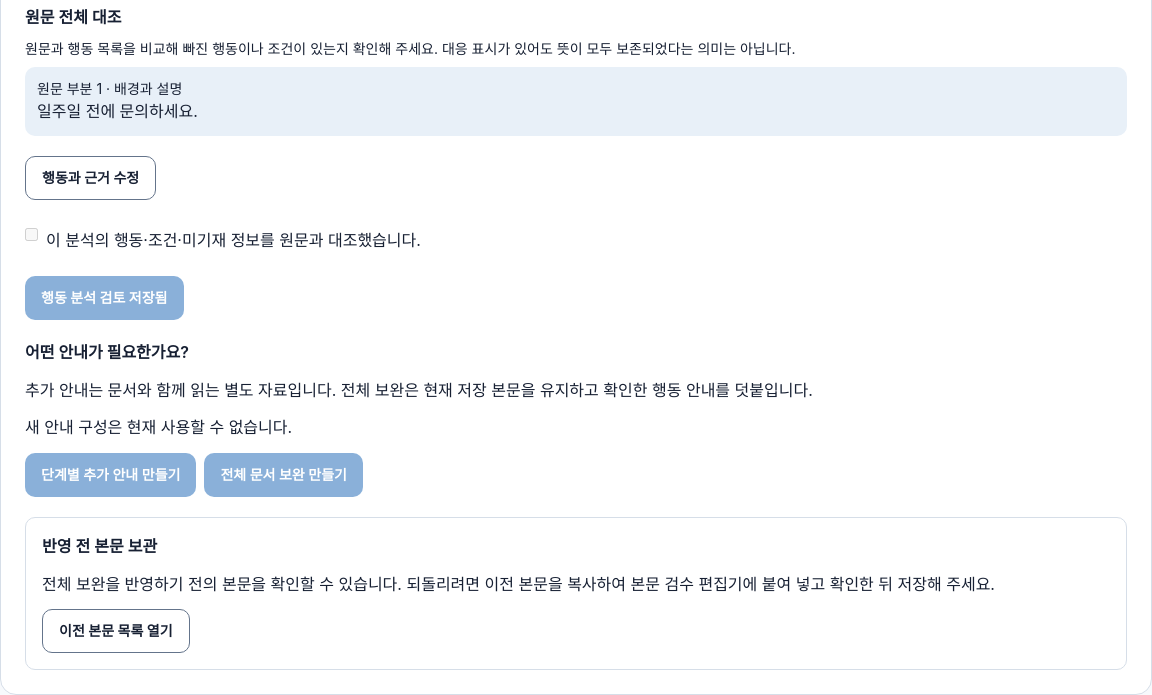
Test: 행동 분석과 보완 흐름 › 새 요청이 꺼져도 이전 본문을 열어 복사할 수 있고 자동 복구하지 않는다
(page scrolled)
Click the button "이전 본문 목록 열기" at [116, 631], box [42,609,190,653]
(page scrolled)
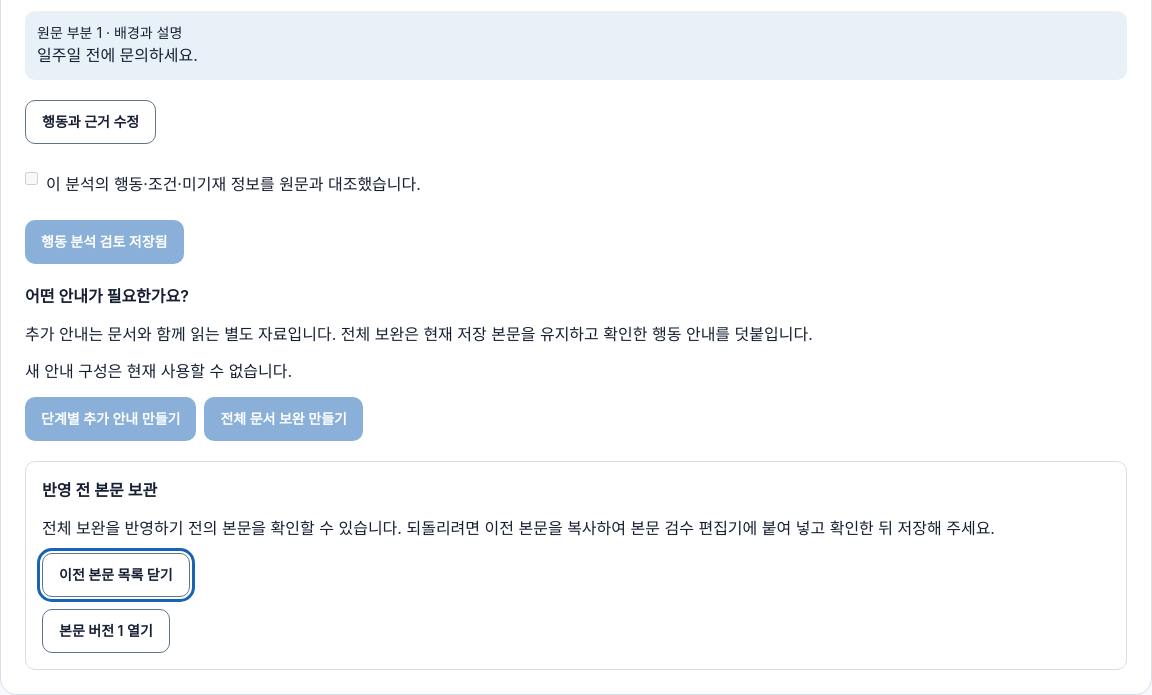
Click the button "본문 버전 1 열기" at [106, 631], box [42,609,170,653]
(page scrolled)
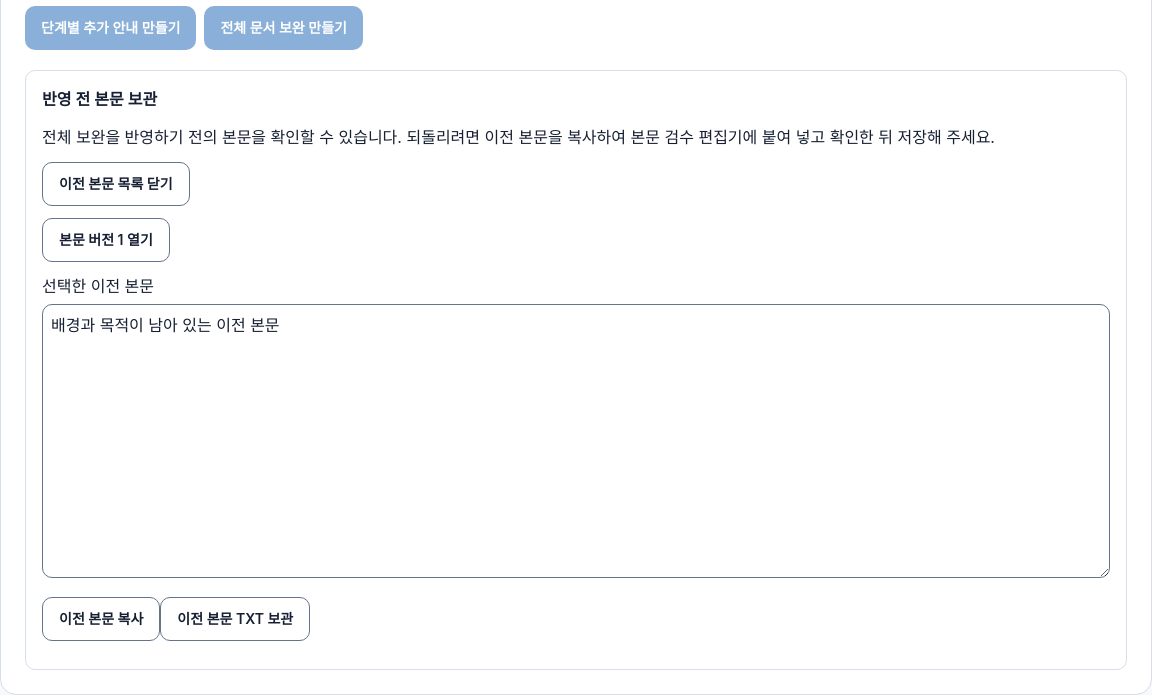
Result: the text box labelled "선택한 이전 본문" holds "배경과 목적이 남아 있는 이전 본문" at [42,304,1110,578]
Click the button "이전 본문 복사" at [101, 619], box [42,597,160,641]
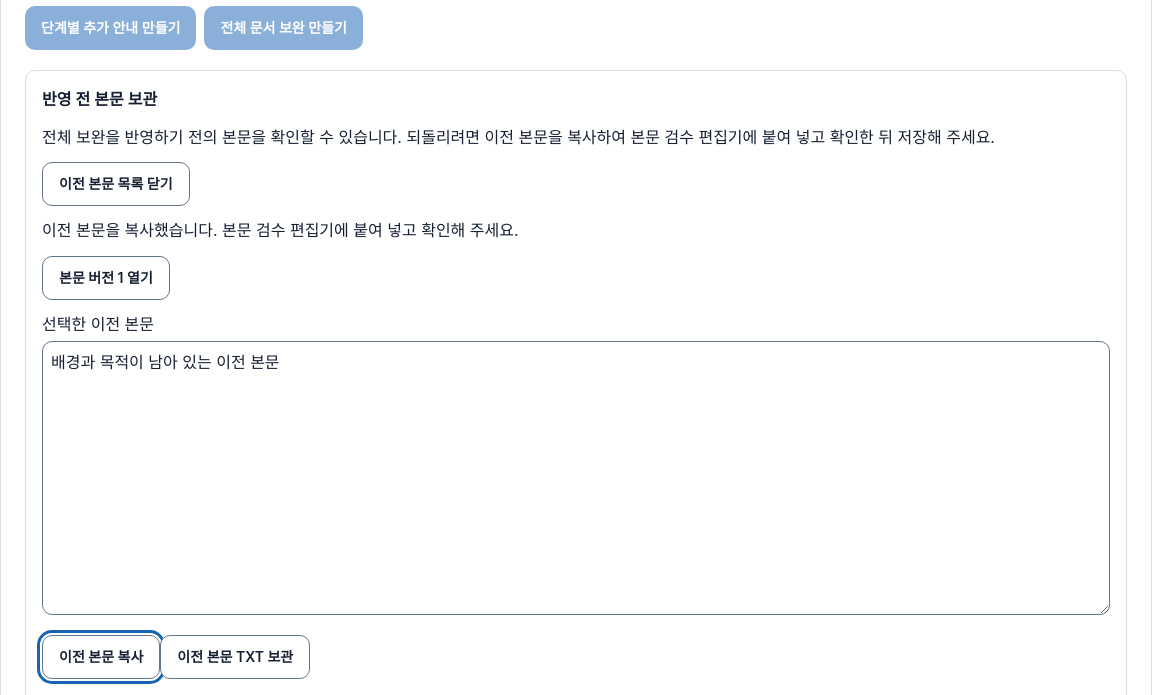
Result: the text "이전 본문을 복사했습니다. 본문 검수 편집기에 붙여 넣고 확인해 주세요." is shown at [42,220,519,240]
